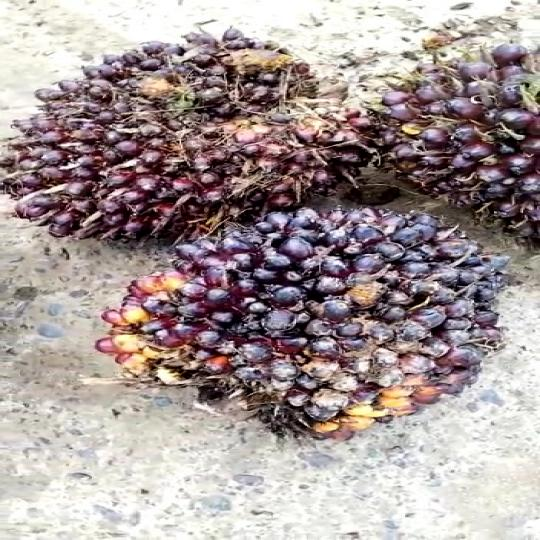kurang masak: (123, 213, 505, 441), (0, 28, 369, 241)
